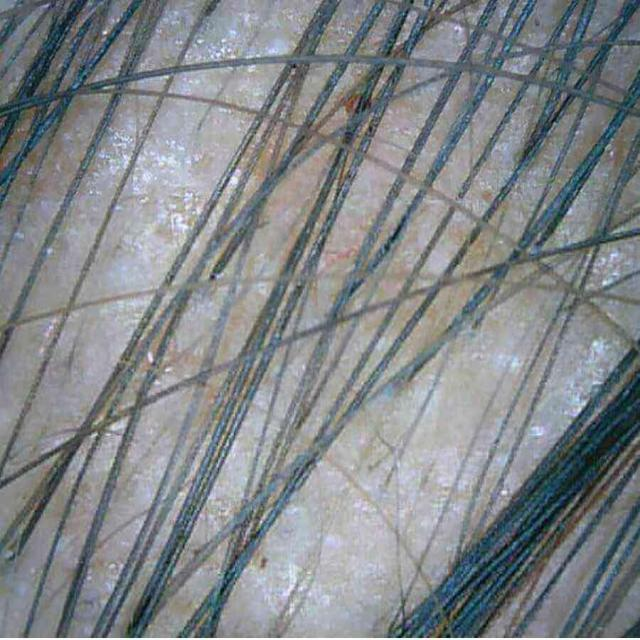ds: (195, 2, 256, 61), (574, 338, 626, 406), (256, 2, 309, 55), (586, 242, 640, 292), (96, 128, 139, 174)
o: (130, 129, 203, 196)
s: (342, 85, 372, 117)
